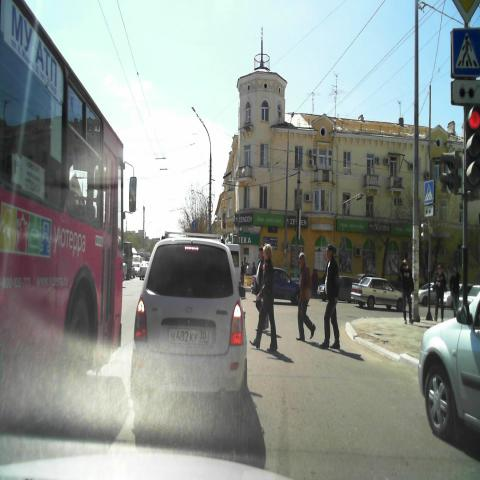8_15: (451, 80, 480, 104), (424, 205, 434, 217)
